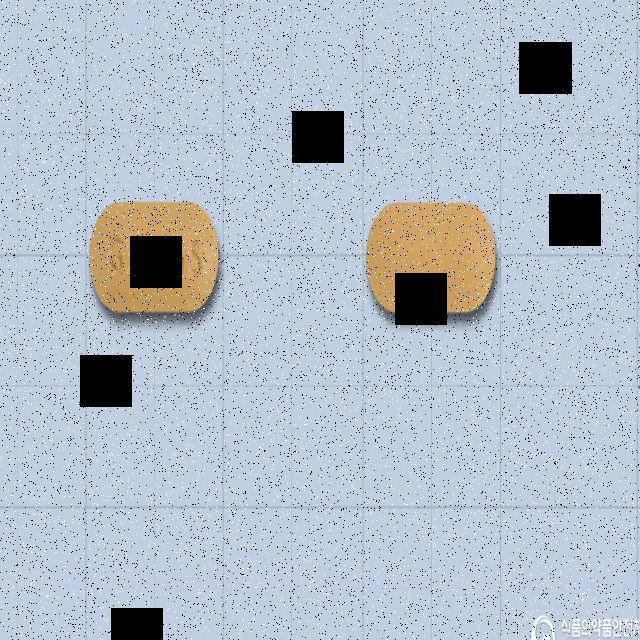Zeffix Tab: (88, 200, 221, 314)
